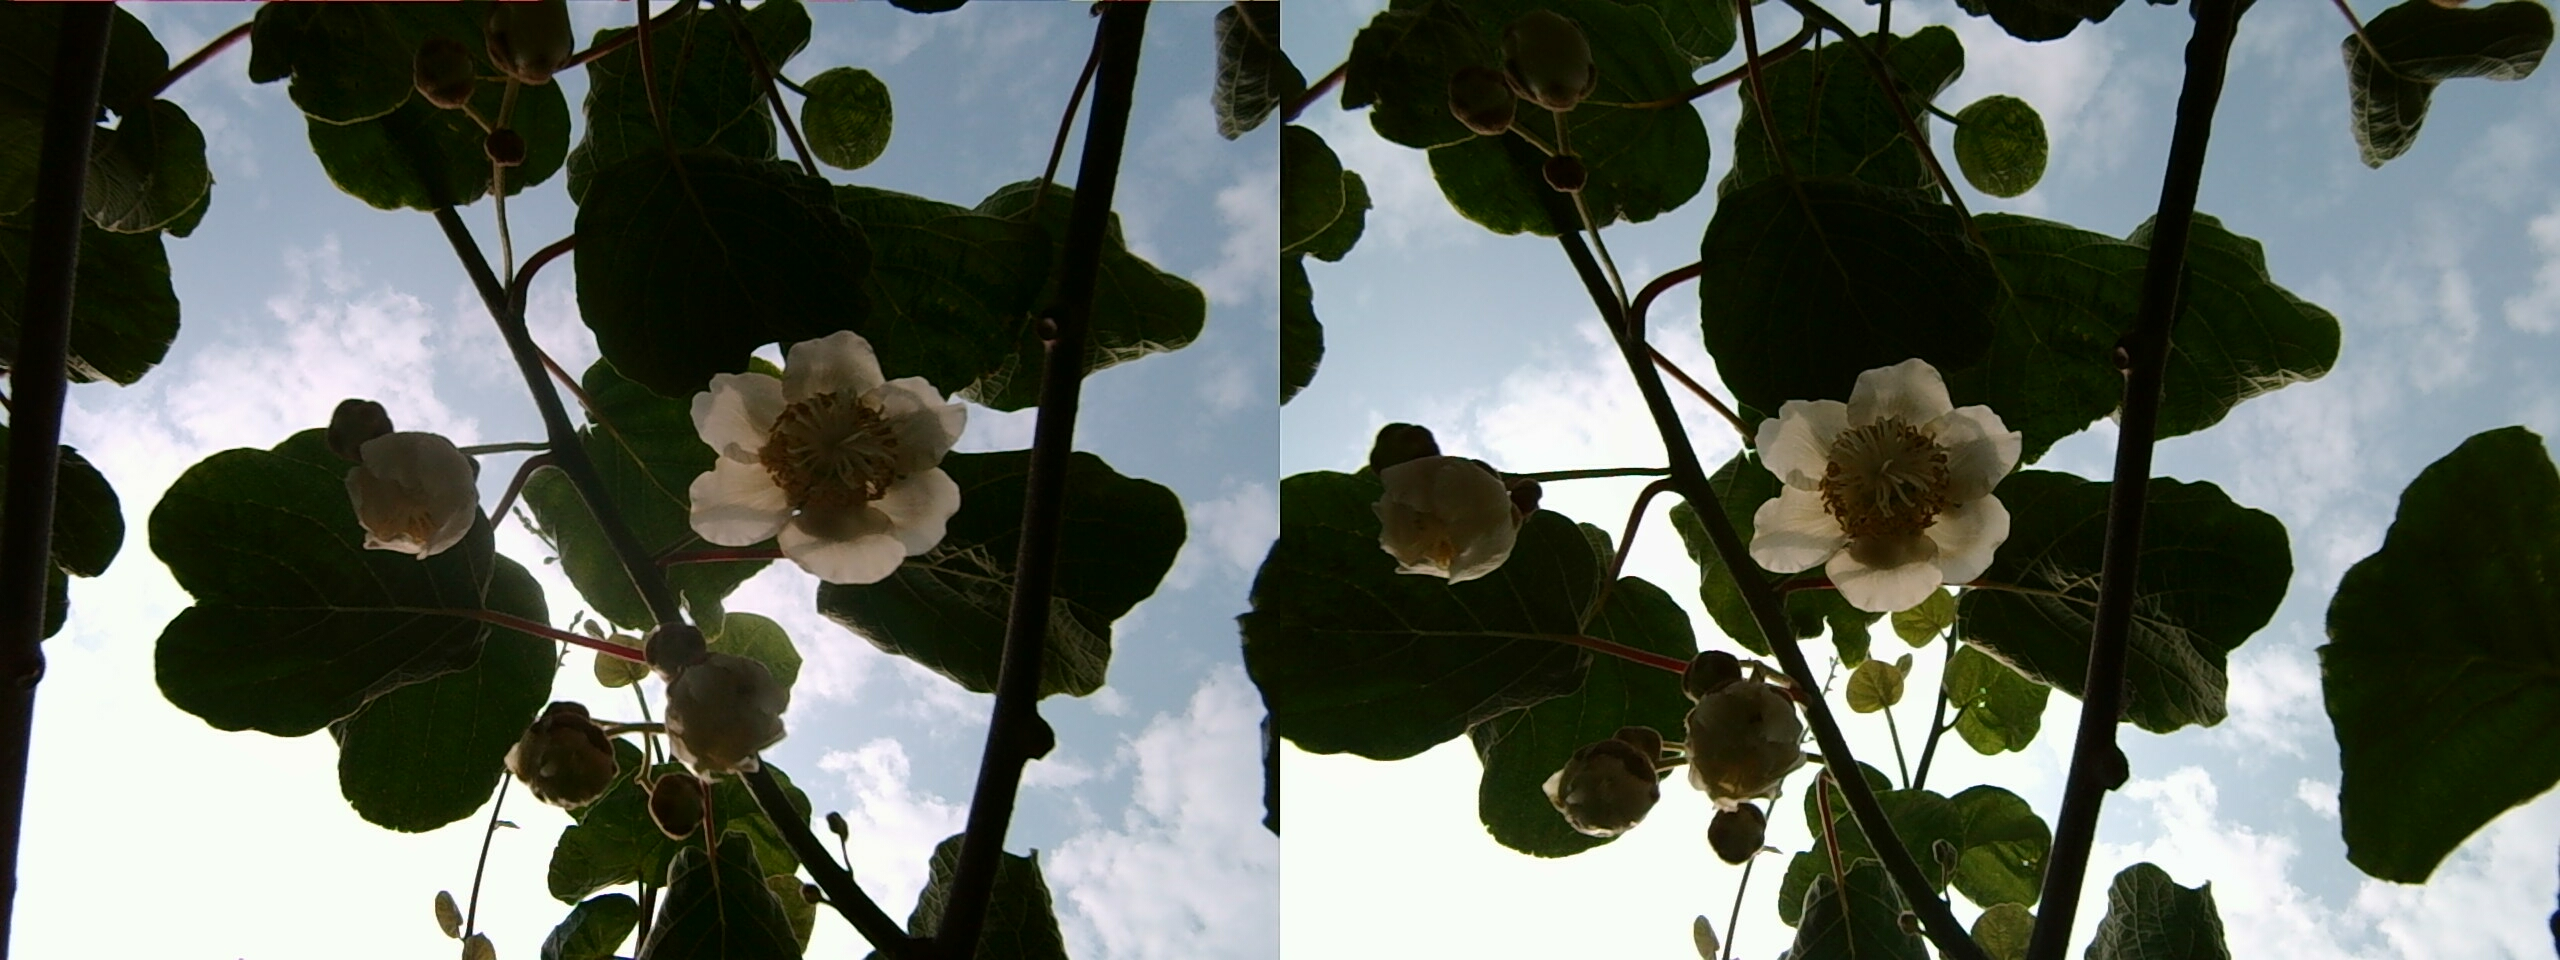flower: (689, 322, 971, 571), (1744, 353, 2021, 606), (1371, 441, 1531, 576), (348, 424, 470, 553)
